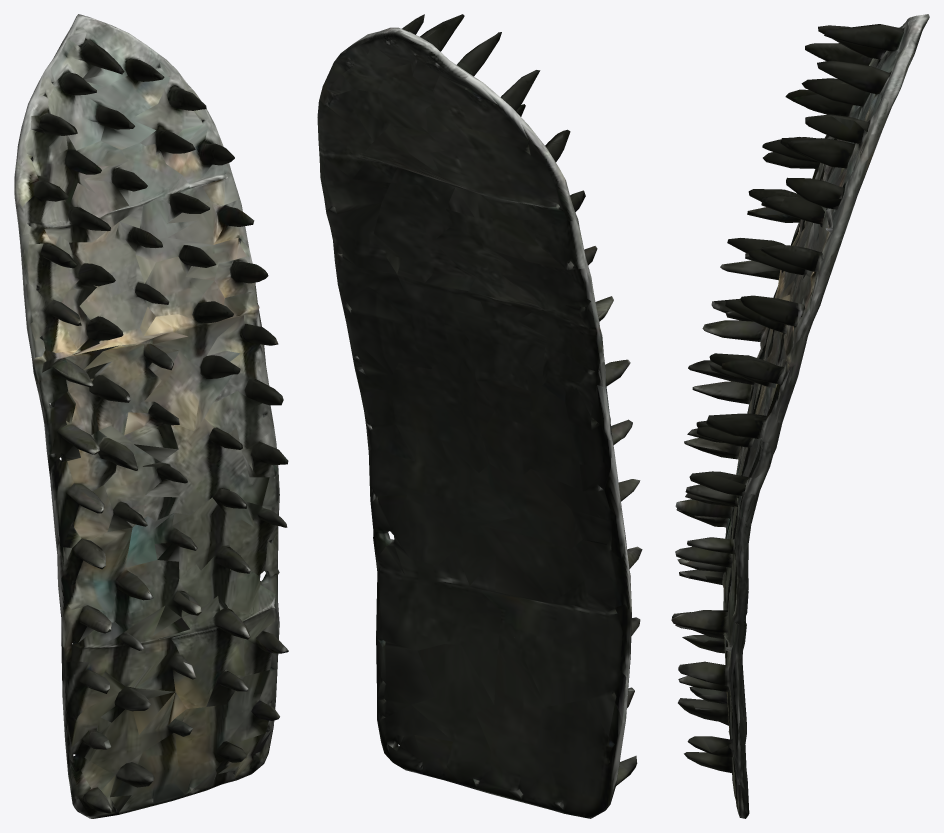
Rendered from escudo-cravos-m68.glb.
3 renders of one model, left to right at view 1: azimuth 30°, elevation 25°; view 2: azimuth 150°, elevation 25°; view 3: azimuth 270°, elevation 25°, orthographic. The views are drawn at different scales.
Parts seen in each view (by area): view 1: escudo-cravos; view 2: escudo-cravos; view 3: escudo-cravos.
Boxes of the visible parts, x1,y1,x2,y2 form: escudo-cravos: (14,14,288,818); escudo-cravos: (317,14,642,818); escudo-cravos: (671,14,929,818).
Bounding box in the file's own units: 0.3282 × 1 × 0.3053.
Materials: 1 (1 with a texture image).
